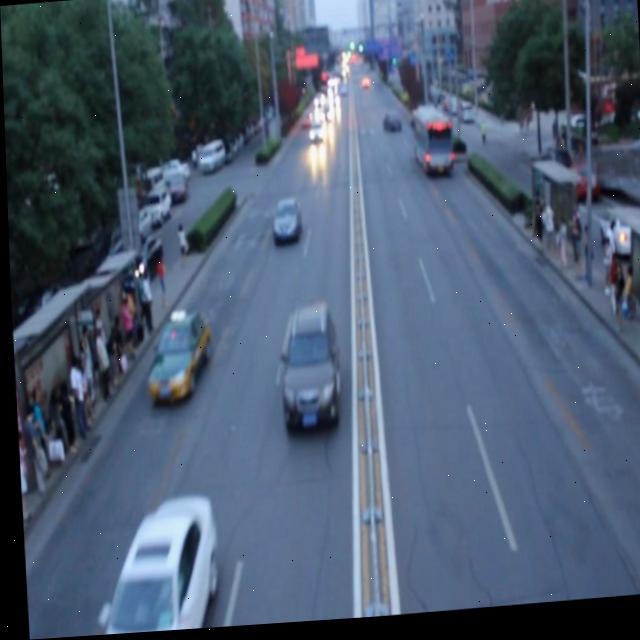car: (90, 500, 215, 636), (273, 309, 338, 434), (143, 311, 206, 403), (269, 203, 298, 244), (381, 116, 400, 139), (306, 127, 322, 145)
van: (408, 112, 452, 181)
